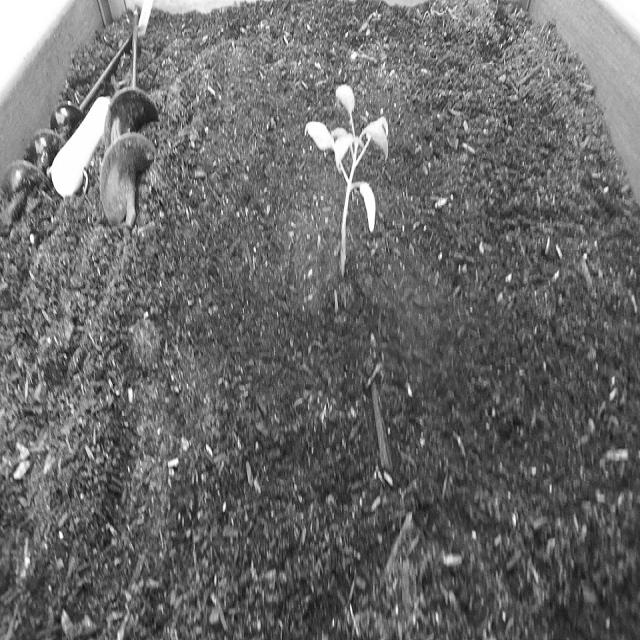Healthy: (296, 64, 402, 288)
